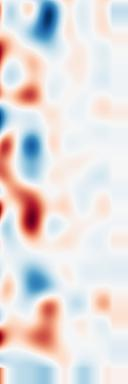filament: (9, 183, 55, 253)
